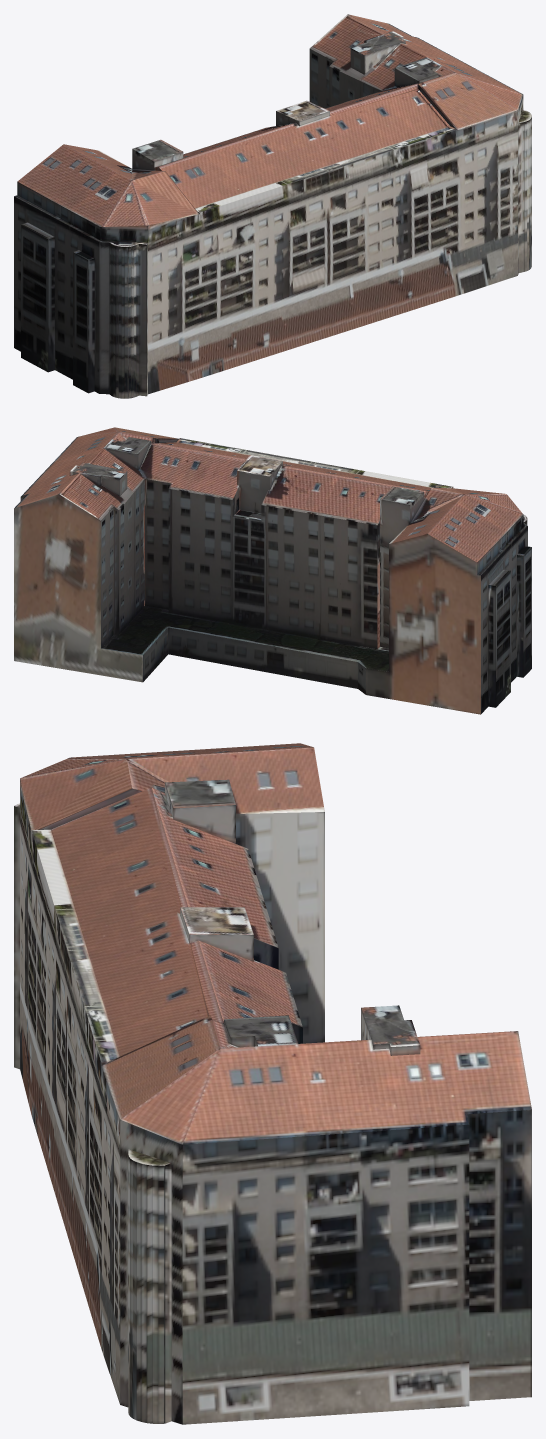
3 renders of one model, top to bottom at view 1: azimuth 30°, elevation 25°; view 2: azimuth 150°, elevation 25°; view 3: azimuth 270°, elevation 25°, orthographic. The views are drawn at different scales.
Visible parts, largest first — view 1: Z_UP; view 2: Z_UP; view 3: Z_UP.
Part boxes in pixels (x1,y1,x2,y2): Z_UP: (14, 14, 531, 398); Z_UP: (14, 427, 531, 714); Z_UP: (14, 743, 531, 1424).
Size of the model in its own units: 70.08 by 26.64 by 38.
Materials: 2 (1 with a texture image).
